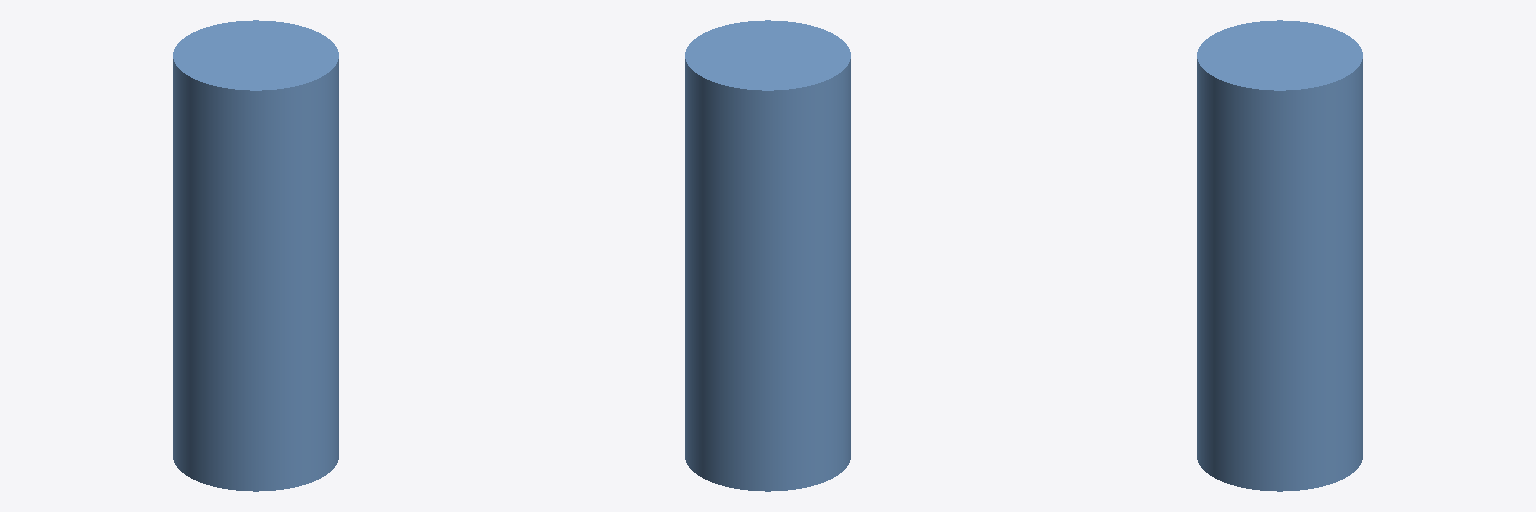
URDF robot description (funnel):
<?xml version="1.0" encoding="utf-8"?>
<!-- This URDF was automatically created by SolidWorks to URDF Exporter! Originally created by [author] ([email redacted]) 
     Commit Version: 1.6.0-4-g7f85cfe  Build Version: 1.6.7995.38578
     For more information, please see http://wiki.ros.org/sw_urdf_exporter -->
<robot name="funnel">
  <!-- <link name="world"/> -->

  <link
    name="base_link">
    <inertial>
      <origin
        xyz="0 0 0"
        rpy="0 0 0" />
      <mass
        value="1000" />
      <inertia
        ixx="10"
        ixy="0"
        ixz="0"
        iyy="10"
        iyz="0"
        izz="5" />
    </inertial>
    <visual>
      <origin
        xyz="0 0 0"
        rpy="0 0 0" />
      <geometry>
        <mesh
          filename="../meshes/AVA/funnel.obj"
          scale="0.01 0.01 0.01" />
      </geometry>
      <material
        name="">
        <color
          rgba="0.509803921568627 0.666666666666667 0.83921568627451 1" />
      </material>
    </visual>
    <collision>
      <origin
        xyz="0 0 0"
        rpy="0 0 0" />
      <geometry>
        <mesh
          filename="../meshes/AVA/funnel.obj"
          scale="0.01 0.01 0.01" />
      </geometry>
      <material name="">
        <contact name="rubber"/>
      </material>
    </collision>
  </link>
</robot>

--- Render facts (derived) ---
3 views of the same robot in one strip: view 1: azimuth 30°, elevation 25°; view 2: azimuth 150°, elevation 25°; view 3: azimuth 270°, elevation 25° (orthographic).
Model funnel with 1 links and 0 joints (none), rooted at base_link, posed every joint at zero.
Visible links, largest first — view 1: base_link; view 2: base_link; view 3: base_link.
Boxes of the visible links, bbox=[...] form: base_link: bbox=[173, 20, 338, 491]; base_link: bbox=[685, 20, 850, 491]; base_link: bbox=[1197, 20, 1362, 491].
Bounding box of the posed robot: 0.3 × 0.3 × 0.8 m (x, y, z).
Meshes: 1 distinct files referenced, 1 mesh visuals loaded (1 OBJ).
